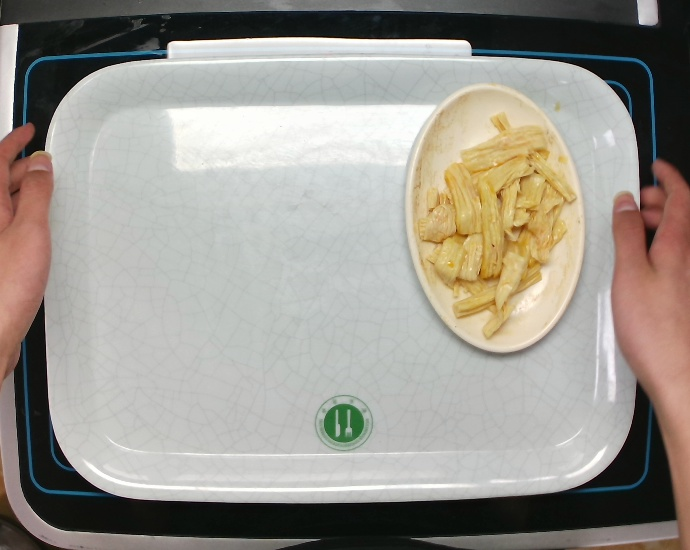JYsf-Tuo_Yuan_Wan: (398, 80, 592, 359)
